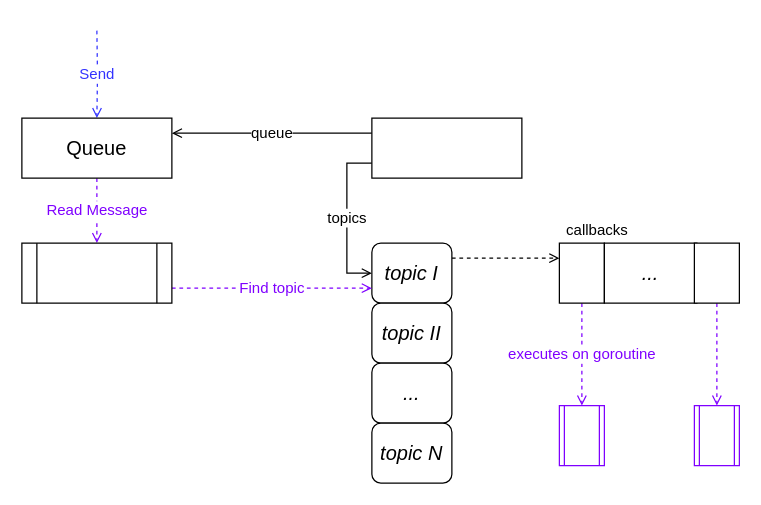
The diagram is 761 pixels wide and 505 high, and some of its shapes have lost their labels. Here are the shapes that lost their labels. From the top down, the box of each, then its label:
(371, 117, 522, 178): EventBus
(21, 242, 172, 303): # Loop
